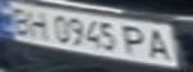0: (48, 12, 72, 45)
4: (81, 18, 103, 51)
5: (100, 19, 121, 53)
9: (66, 16, 87, 47)
A: (142, 26, 181, 62)
B: (3, 3, 36, 35)
H: (24, 9, 54, 40)
P: (121, 23, 151, 57)
